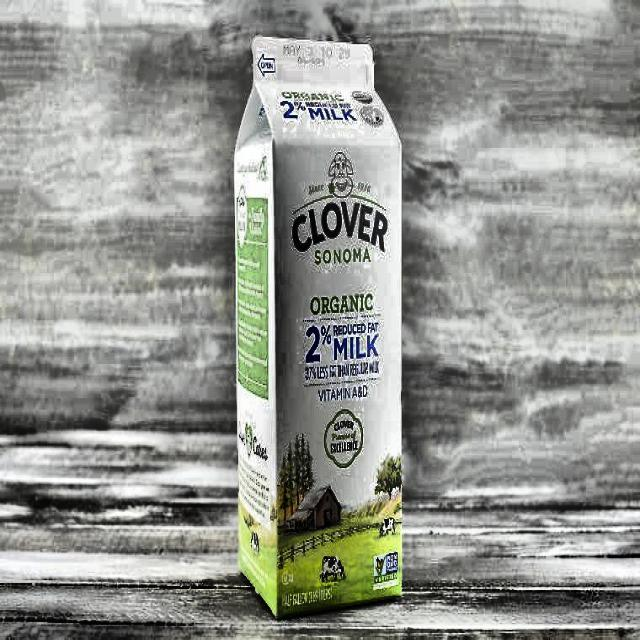cardboard: (234, 34, 404, 619)
